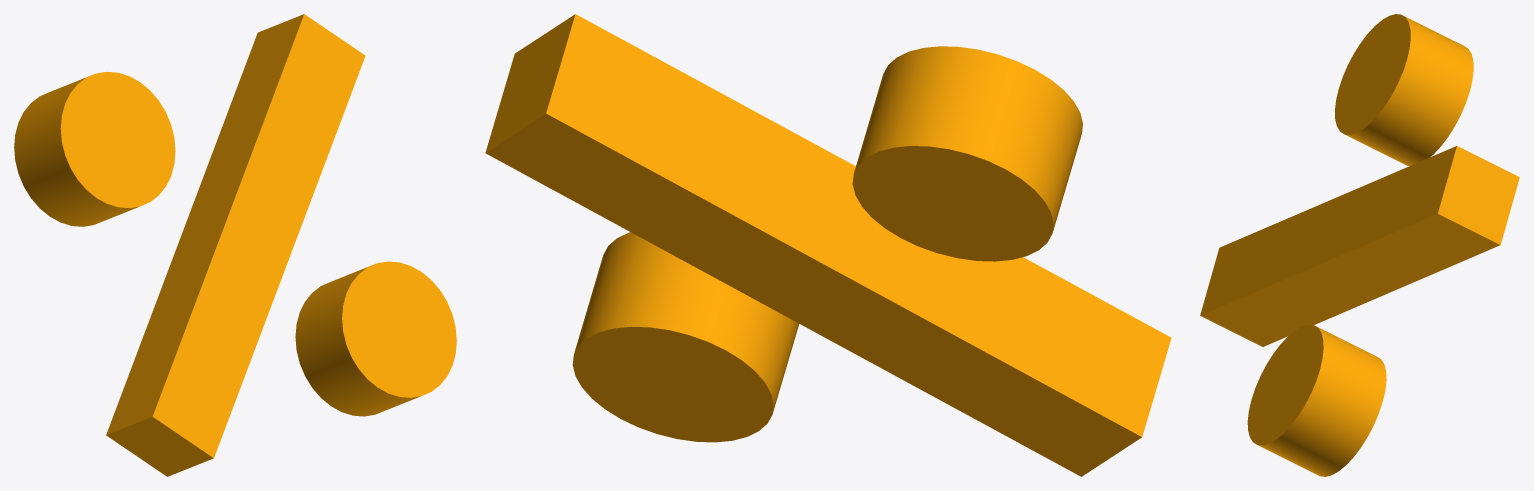
Rendered from division.glb.
The picture shows the model from 3 angles, left to right: view 1: azimuth 30°, elevation 25°; view 2: azimuth 150°, elevation 25°; view 3: azimuth 270°, elevation 25°; orthographic projection. The views are drawn at different scales.
Parts seen in each view (by area): view 1: Division002_0; view 2: Division002_0; view 3: Division002_0.
Boxes of the visible parts, x1,y1,x2,y2 form: Division002_0: (14, 14, 456, 476); Division002_0: (485, 14, 1171, 476); Division002_0: (1200, 14, 1519, 476).
Bounding box in the file's own units: 6.79 × 6.35 × 5.4.
